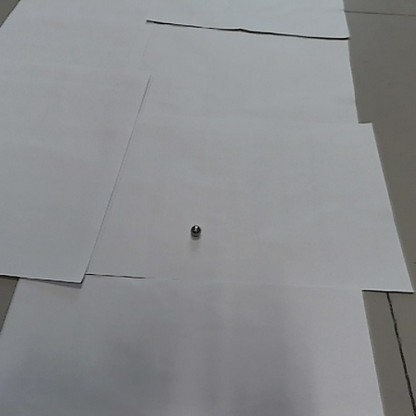ironball: (187, 222, 203, 238)
